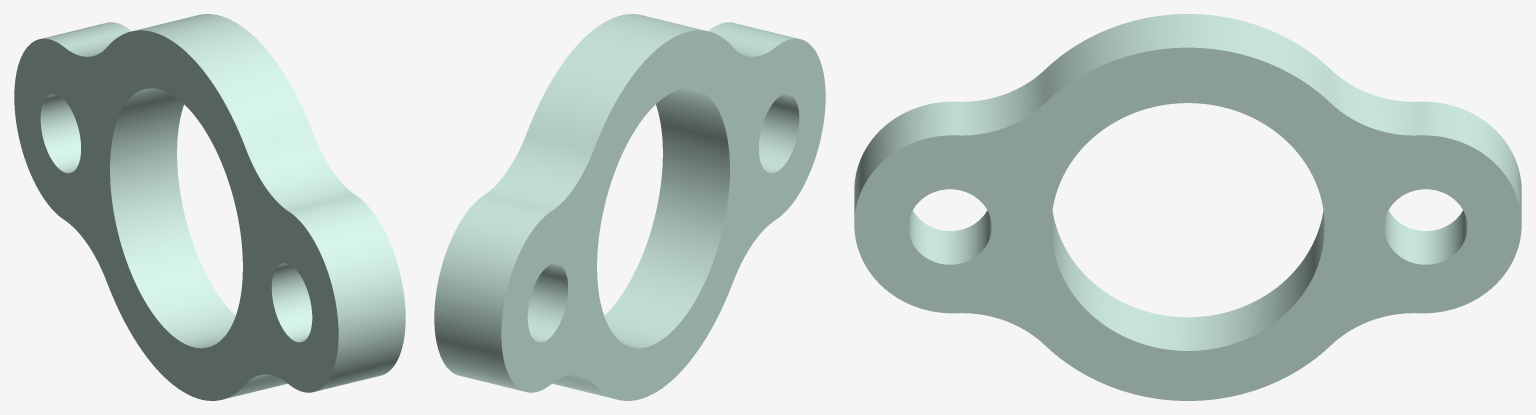
The picture shows the model from 3 angles, left to right: view 1: azimuth 30°, elevation 25°; view 2: azimuth 150°, elevation 25°; view 3: azimuth 270°, elevation 25°; orthographic projection. The views are drawn at different scales.
Parts seen in each view (by area): view 1: Renderer Node; view 2: Renderer Node; view 3: Renderer Node.
Boxes of the visible parts, x1,y1,x2,y2 form: Renderer Node: (14, 14, 405, 400); Renderer Node: (434, 14, 825, 400); Renderer Node: (854, 14, 1521, 400).
Size of the model in its own units: 0.1797 by 0.8788 by 1.5.
